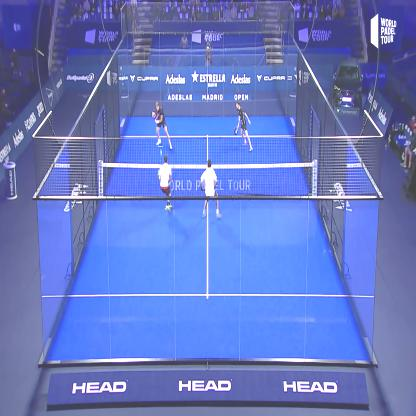ball: (158, 146, 164, 157)
